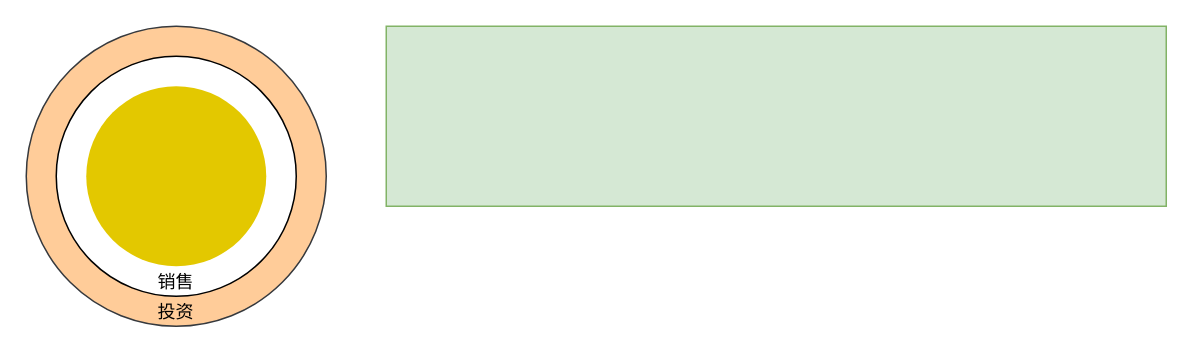
This 1193x353 diagram has some shape labels left out. Each missing label, with the centre of its shape:
生产: (176,176)
蛋黄部分对应生产，是核心部分，收益最大，难度最高。 蛋白部分对应销售，收益第二，难度比生产低。 蛋壳部分对应投资，是以生产和效率的收益为基础的财富放大器。: (775,115)
